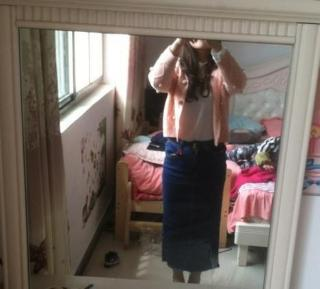long sleeve outwear: (148, 46, 247, 146)
long sleeve top: (257, 137, 281, 168)
skirt: (162, 136, 226, 273)
trousers: (225, 145, 260, 171)
